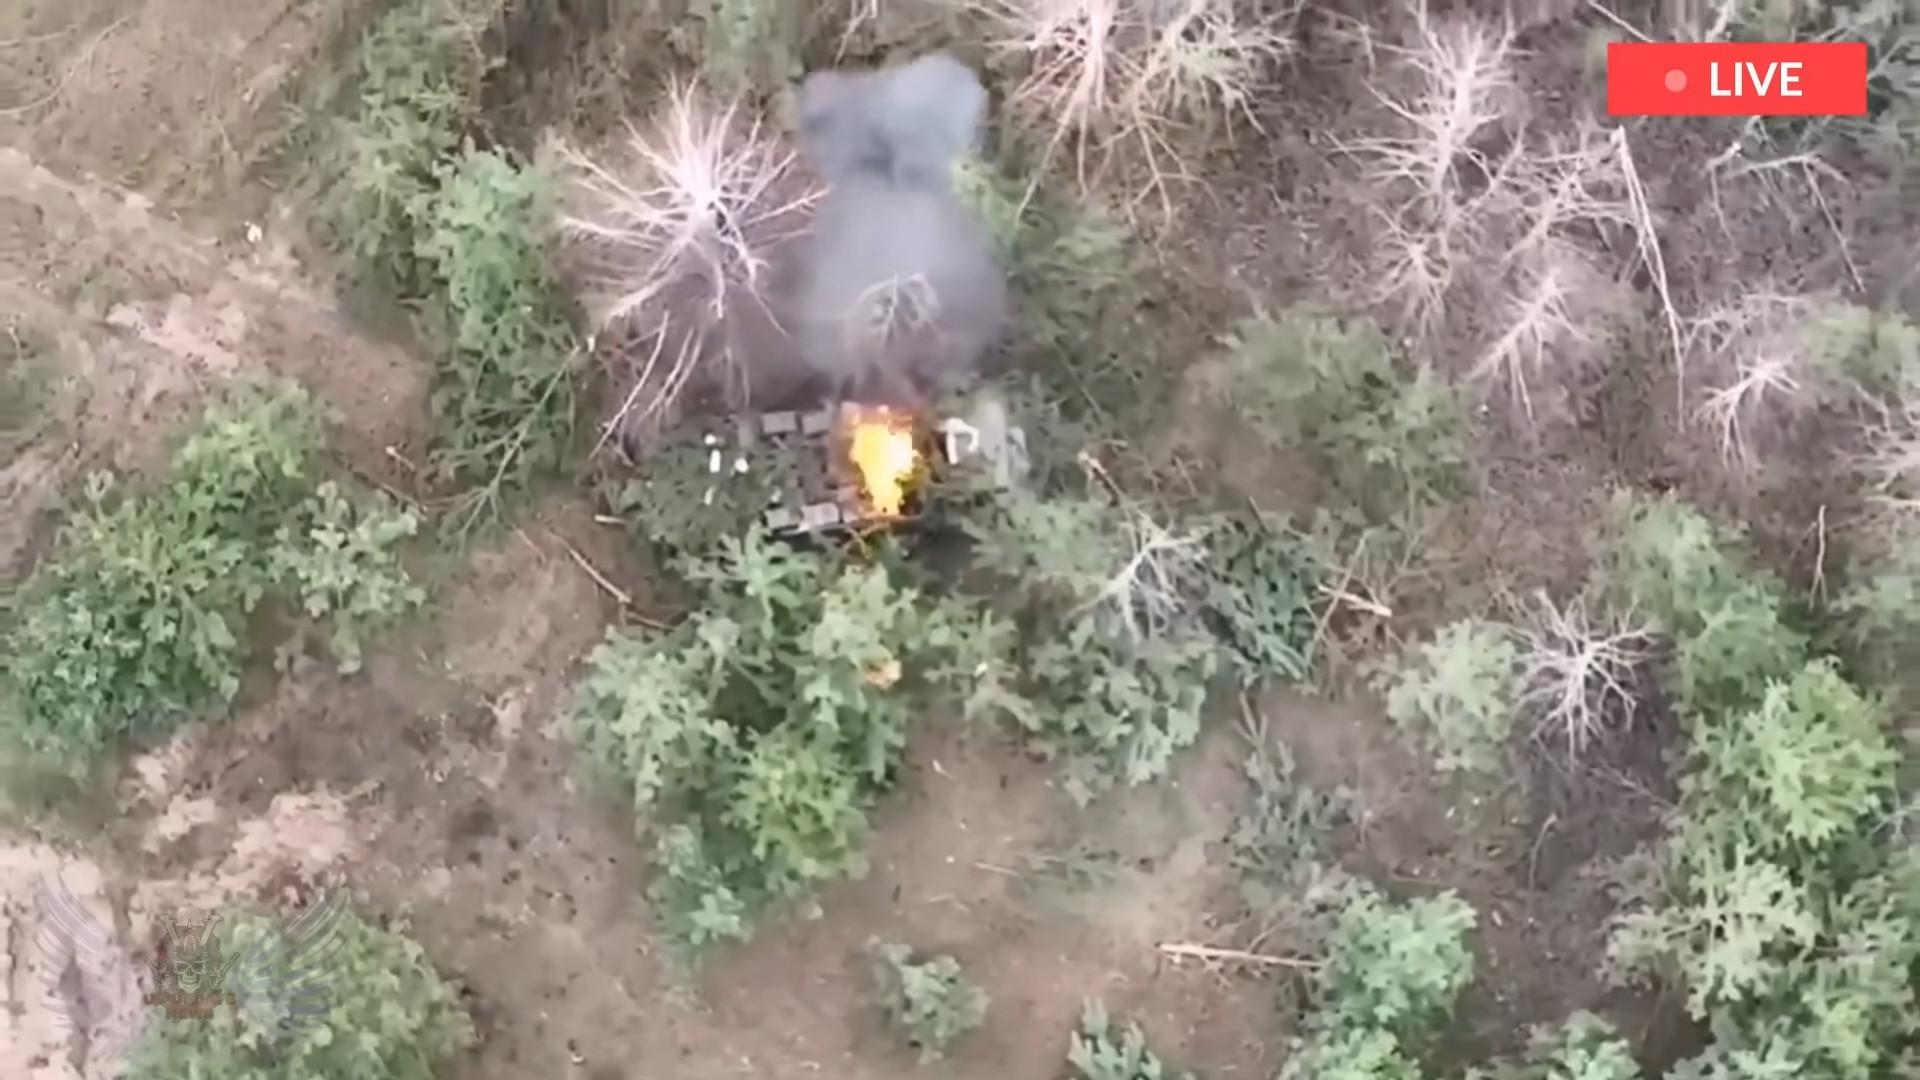tank: (593, 406, 916, 547)
